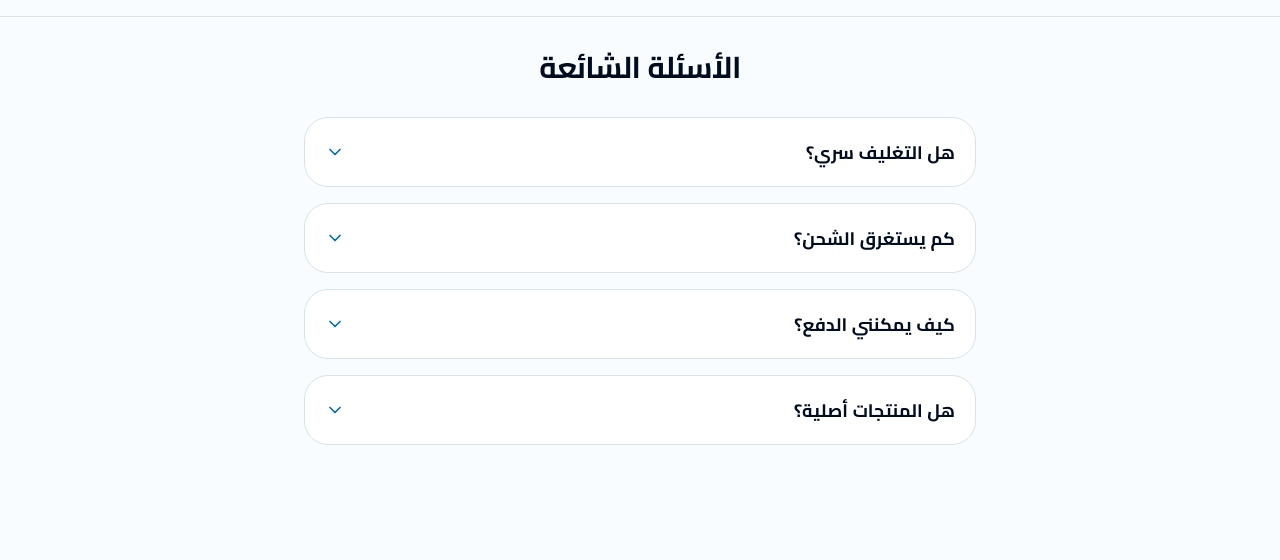
Test: FAQ Component (UI/Component Test) › toggles aria-expanded state when clicking on a question
// Click to open it
Click the button "هل التغليف سري؟". click: click(880, 152)
box: x1=305 y1=118 x2=975 y2=186
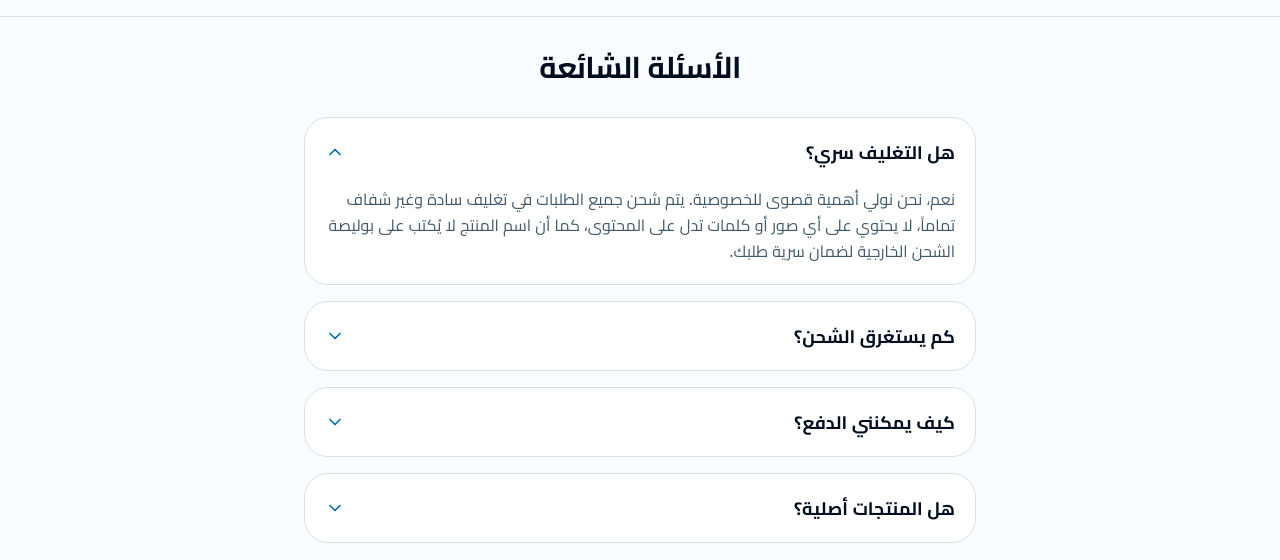
Check: the button "هل التغليف سري؟" is expanded
// Click to close it again
Click the button "هل التغليف سري؟". click: click(880, 152)
box: x1=305 y1=118 x2=975 y2=186
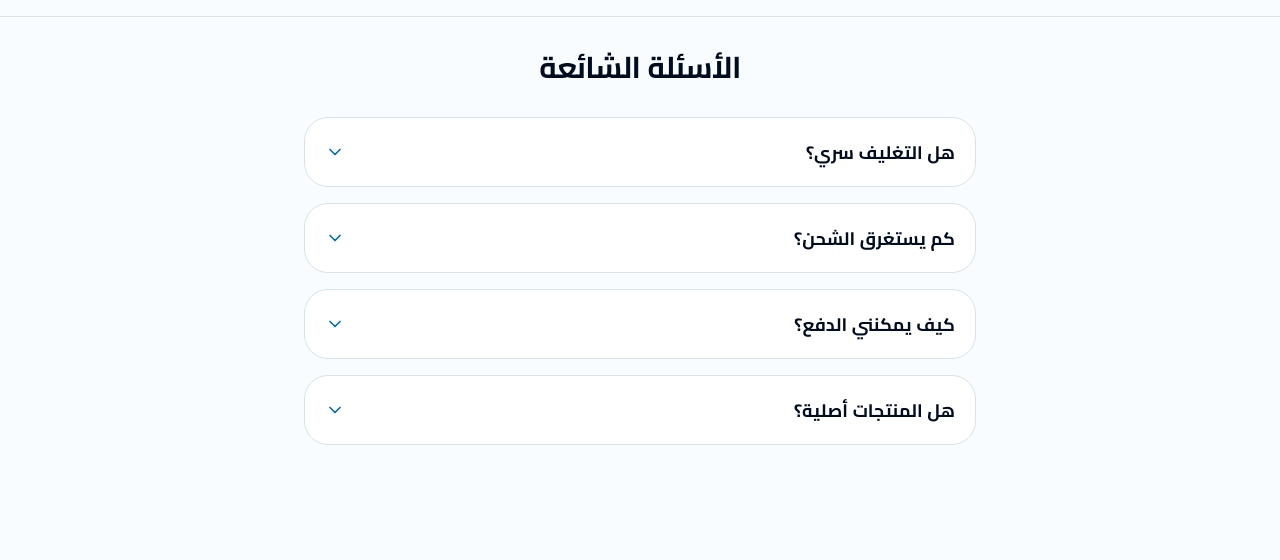
Check: the button "هل التغليف سري؟" is collapsed, box x1=305 y1=118 x2=975 y2=186
